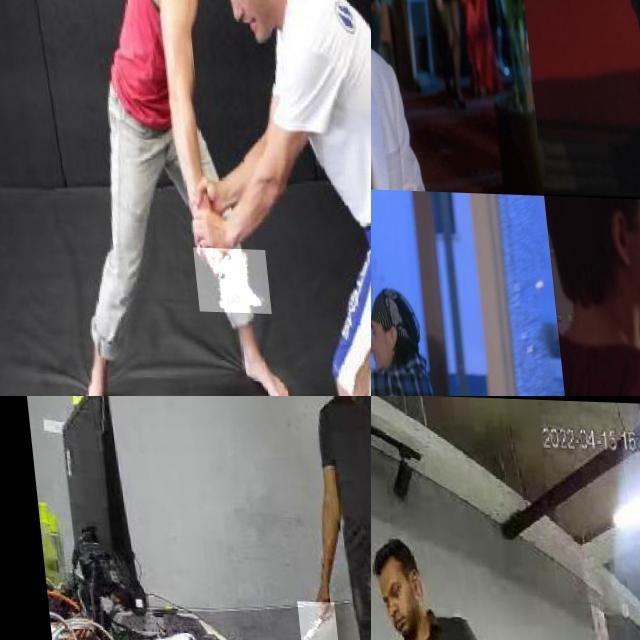-: (185, 245, 262, 311), (286, 599, 328, 640)
gun-knife-thesis - v11 Yolov5 augmented: (371, 59, 409, 188), (371, 333, 392, 390)
